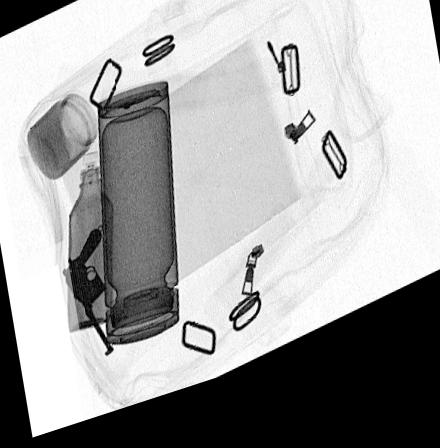Gun: (61, 232, 115, 363)
